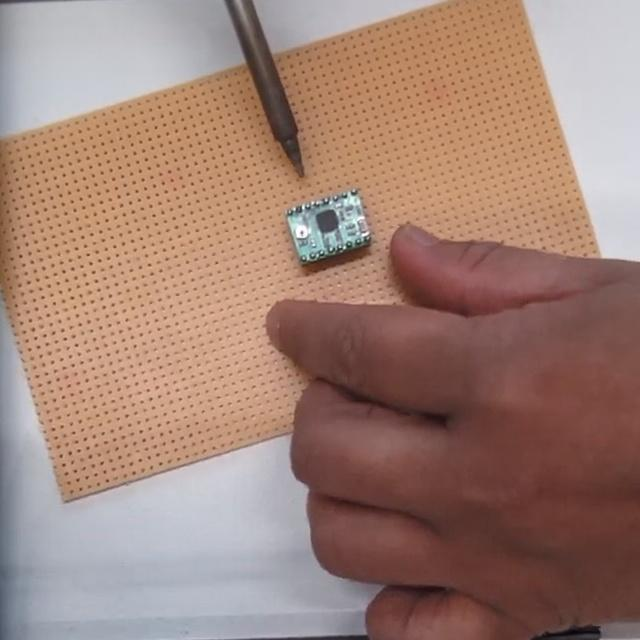Chip: (282, 191, 378, 271)
soldering_iron: (217, 0, 307, 179)
